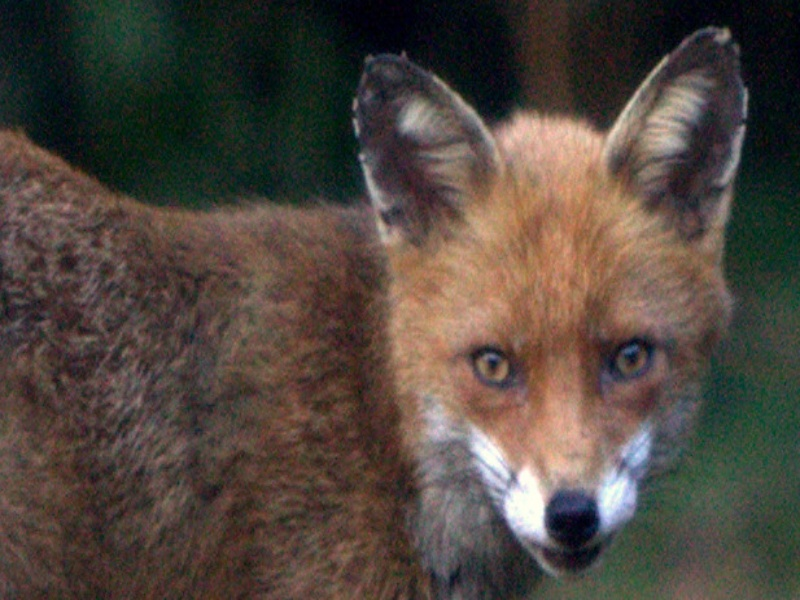fox: (1, 19, 755, 596)
